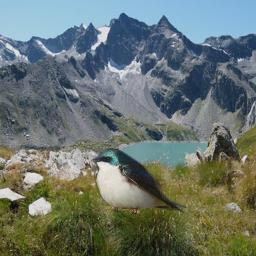Swallow: (90, 147, 188, 214)
